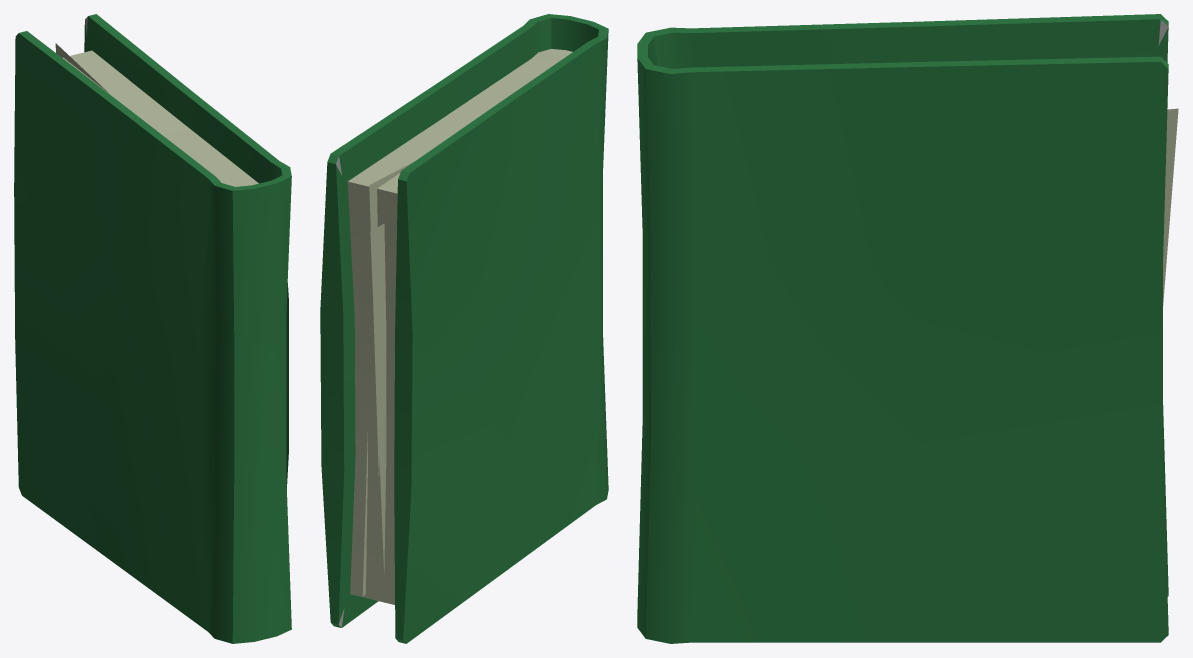
File: green book.fbx
The picture shows the model from 3 angles, left to right: view 1: azimuth 30°, elevation 25°; view 2: azimuth 150°, elevation 25°; view 3: azimuth 270°, elevation 25°; orthographic projection. The views are drawn at different scales.
Parts seen in each view (by area): view 1: Box004; view 2: Box004; view 3: Box004.
Part boxes in pixels (<box>): Box004: <box>14,14,291,643</box>; Box004: <box>320,14,608,643</box>; Box004: <box>637,14,1178,643</box>.
Size of the model in its own units: 4.5 by 22 by 18.51.
